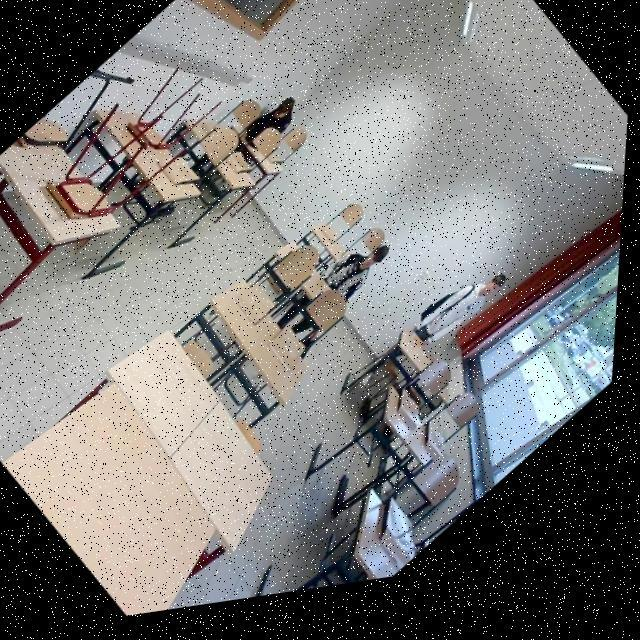phone_use: (243, 97, 306, 171)
